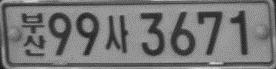1: (227, 10, 254, 55)
3: (139, 11, 165, 57)
6: (169, 10, 195, 57)
7: (196, 10, 223, 55)
9: (74, 11, 100, 57), (47, 11, 71, 56)
부산_V: (20, 12, 47, 58)
사: (104, 14, 130, 55)
